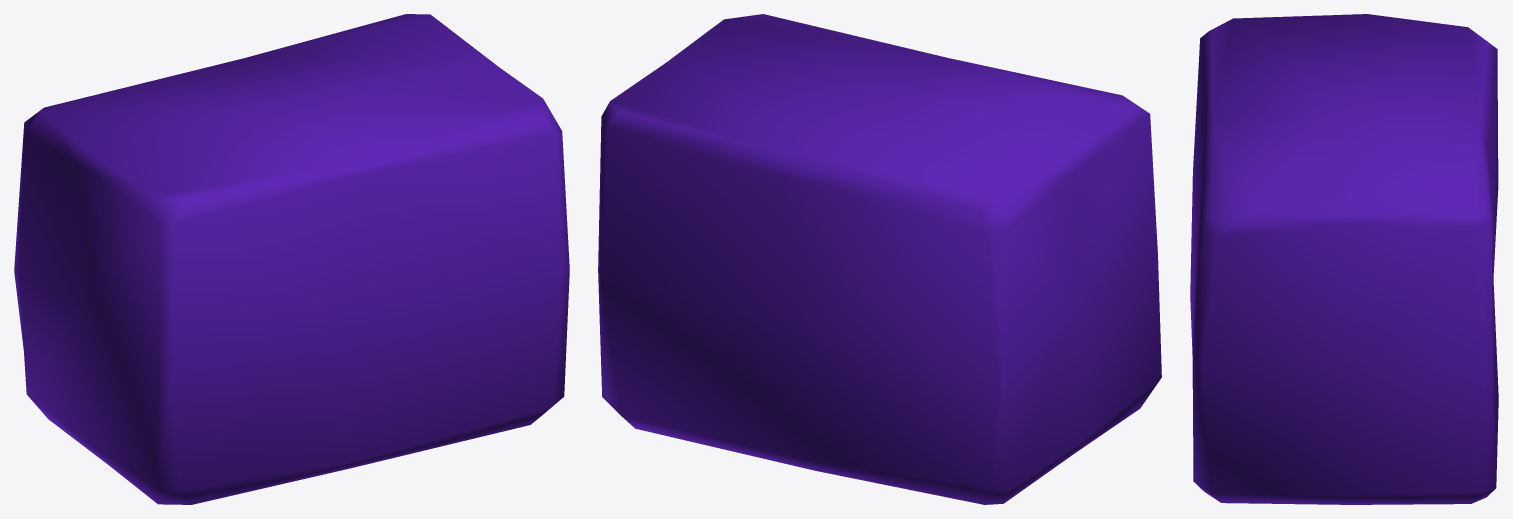
File: block_03.FBX
3 renders of one model, left to right at view 1: azimuth 30°, elevation 25°; view 2: azimuth 150°, elevation 25°; view 3: azimuth 270°, elevation 25°, orthographic. The views are drawn at different scales.
Visible parts, largest first — view 1: block_03; view 2: block_03; view 3: block_03.
Part boxes in pixels (x1,y1,x2,y2): block_03: (14,14,569,504); block_03: (598,14,1161,504); block_03: (1190,14,1498,504).
Size of the model in its own units: 12.62 by 9.16 by 8.29.
